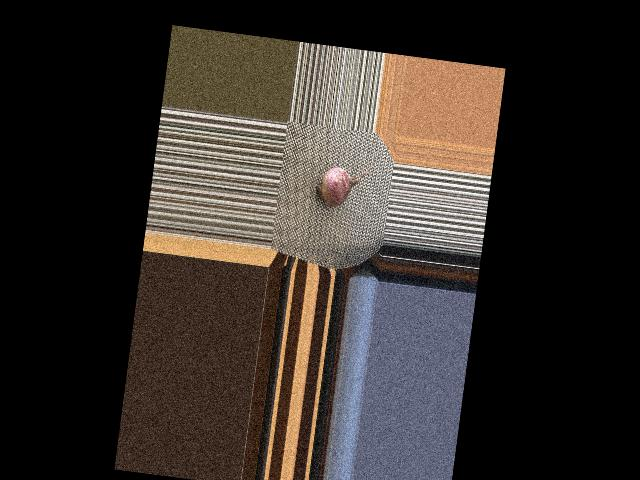beet: (313, 147, 376, 211)
